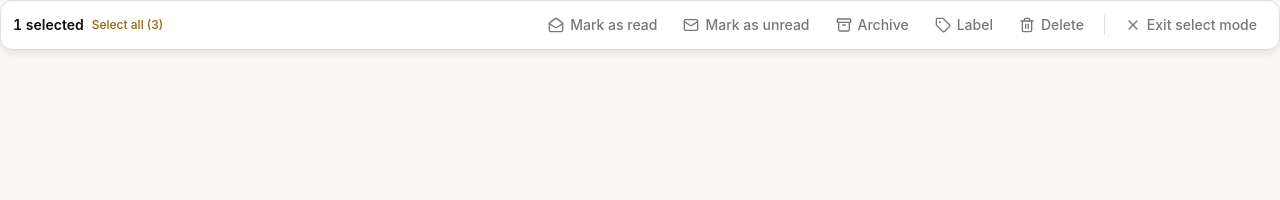
Test: filtering the bulk picker › a query nothing matches says so, rather than reading as no labels at all
Click the button with aria-label "Apply label": x=964, y=25 top-left (925, 9), bottom-right (1003, 41)
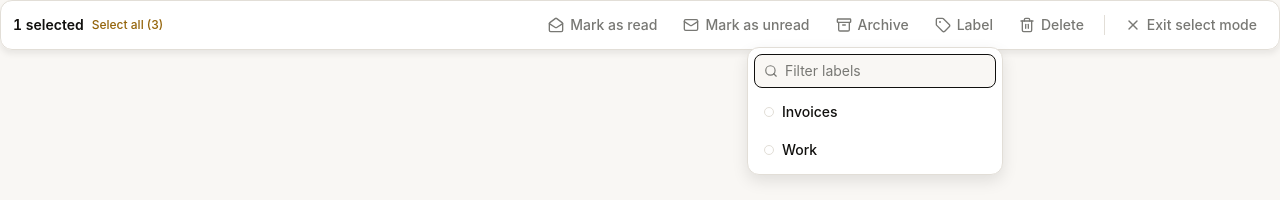
In the search field labelled "Filter labels": x=875, y=71 top-left (754, 54), bottom-right (996, 88), type "zzz"
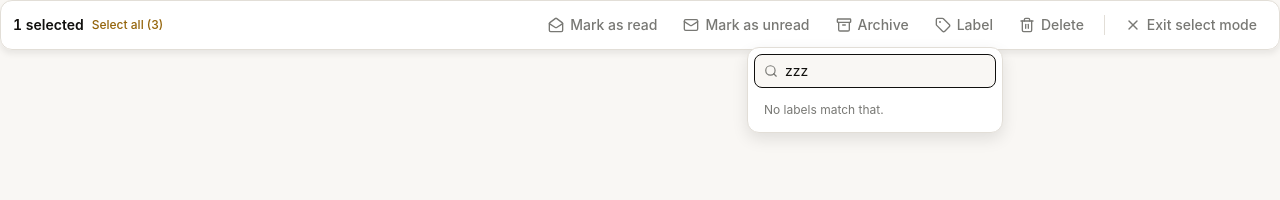
Expected: the text "No labels match that." is shown, top-left (764, 102), bottom-right (884, 117)
